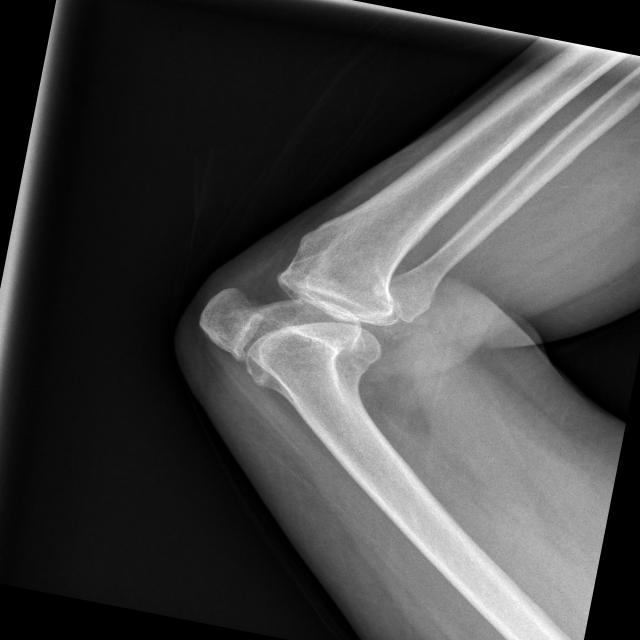Knee: (184, 231, 413, 418)
